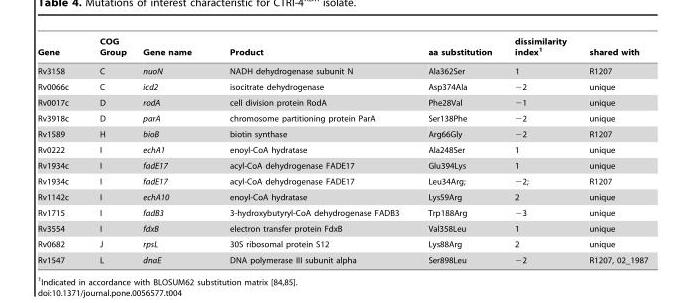table: (36, 36, 647, 264)
table column: (209, 36, 412, 264), (412, 36, 502, 264), (134, 36, 209, 264), (502, 36, 577, 264), (577, 36, 647, 264), (83, 36, 134, 264), (36, 36, 83, 264)
table column header: (36, 36, 647, 61)
table row: (36, 36, 647, 61), (36, 61, 647, 78), (36, 78, 647, 94), (36, 94, 647, 110), (36, 125, 647, 141), (36, 141, 647, 157), (36, 157, 647, 173), (36, 173, 647, 189), (36, 204, 647, 220), (36, 220, 647, 236), (36, 110, 647, 125), (36, 189, 647, 204), (36, 236, 647, 251), (36, 251, 647, 264)
